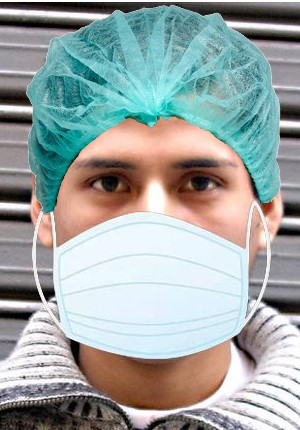with_mask_and_cap: (27, 7, 285, 359)
